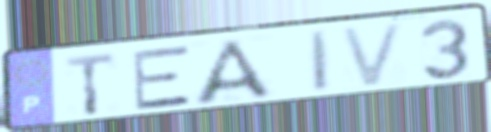3: (417, 15, 471, 83)
A: (191, 36, 279, 109)
E: (129, 43, 196, 113)
I: (307, 28, 333, 95)
T: (62, 51, 119, 118)
V: (337, 19, 409, 91)
